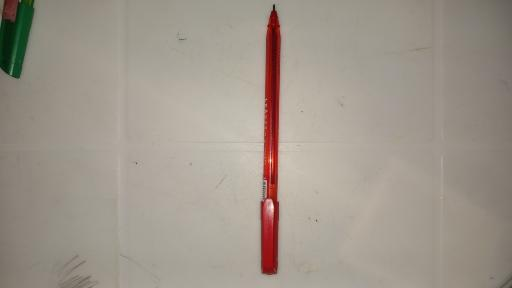pen: (260, 2, 281, 275)
